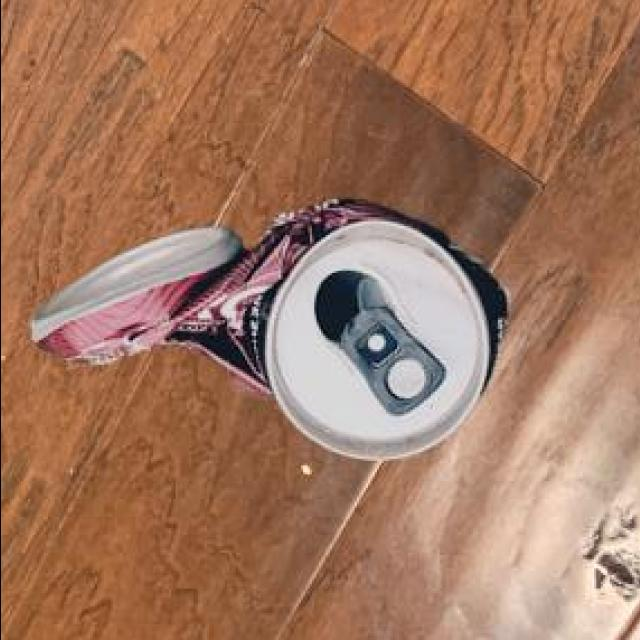logam: (28, 203, 507, 462)
